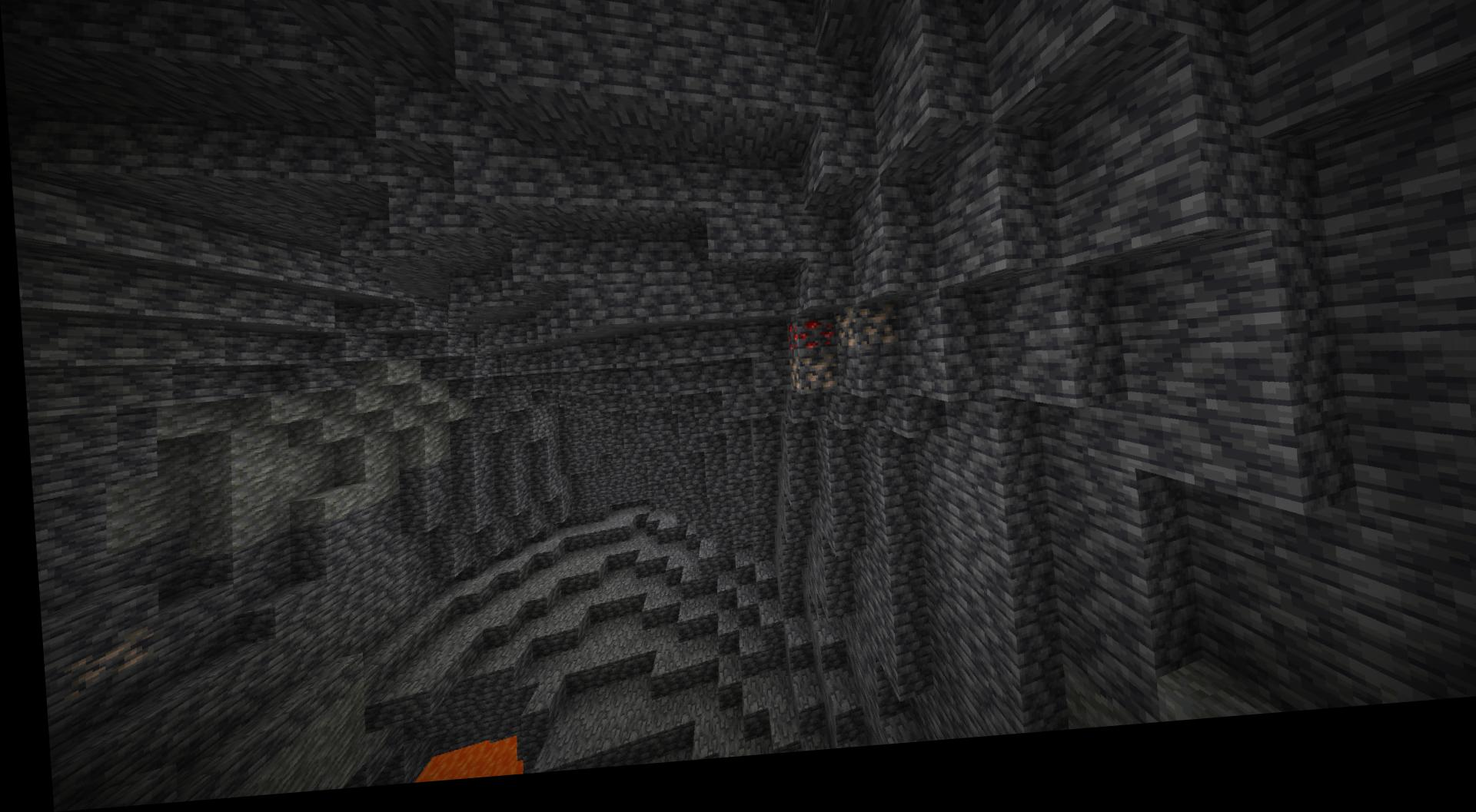iron ore: (35, 637, 147, 709), (836, 321, 889, 364), (781, 367, 830, 406)
redstone ore: (778, 331, 828, 371)
